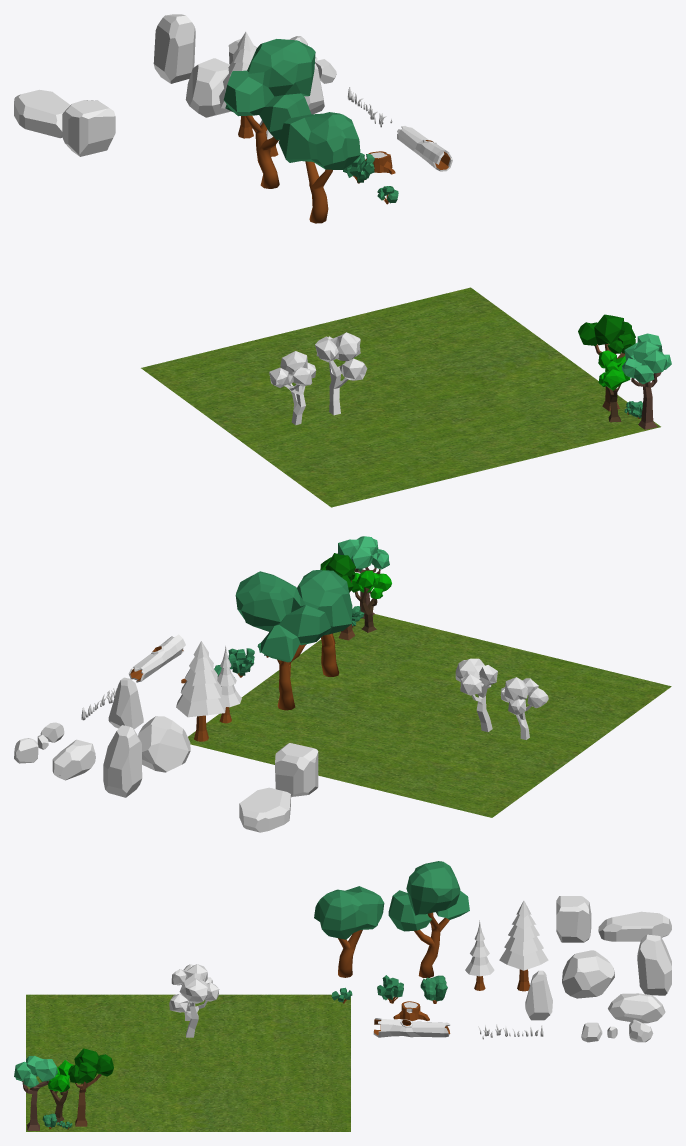
The model's file is region-0.glb.
The picture shows the model from 3 angles, top to bottom: view 1: azimuth 30°, elevation 25°; view 2: azimuth 150°, elevation 25°; view 3: azimuth 270°, elevation 25°; orthographic projection. The views are drawn at different scales.
Visible parts, largest first — view 1: Plane, Tree2.002_Plane.105, Tree1.002_Plane.106, Rock6.002_Cube.037, Rock2.004_Cube.041, Cube, Cube.002, Rock5.002_Cube.038, Rock1.003_Cube.042, Cube.001, Cube.004, Log.001_Plane.110 (+2 smaller); view 2: Plane, Tree2.002_Plane.105, Tree1.002_Plane.106, Spruce1.002_Plane.109, Rock2.004_Cube.041, Rock1.003_Cube.042, Rock6.002_Cube.037, Rock5.002_Cube.038, Cube.002, Cube.004, Cube, Rock3.003_Cube.040 (+7 smaller); view 3: Plane, Tree2.002_Plane.105, Tree1.002_Plane.106, Spruce1.002_Plane.109, Rock1.003_Cube.042, Rock2.004_Cube.041, Rock5.002_Cube.038, Rock6.002_Cube.037, Cube.001, Cube.002, Cube, Rock4.002_Cube.039 (+9 smaller).
Part boxes in pixels (x1=…): Plane: x1=141, y1=287, x2=660, y2=507; Tree2.002_Plane.105: x1=223, y1=39, x2=315, y2=188; Tree1.002_Plane.106: x1=278, y1=112, x2=360, y2=223; Rock6.002_Cube.037: x1=62, y1=100, x2=115, y2=156; Rock2.004_Cube.041: x1=153, y1=14, x2=195, y2=83; Cube: x1=622, y1=333, x2=671, y2=429; Cube.002: x1=315, y1=332, x2=367, y2=415; Rock5.002_Cube.038: x1=14, y1=89, x2=70, y2=138; Rock1.003_Cube.042: x1=185, y1=58, x2=231, y2=117; Cube.001: x1=578, y1=314, x2=635, y2=411; Cube.004: x1=269, y1=351, x2=316, y2=425; Log.001_Plane.110: x1=397, y1=126, x2=452, y2=171; Plane: x1=188, y1=614, x2=671, y2=817; Tree2.002_Plane.105: x1=235, y1=571, x2=330, y2=710; Tree1.002_Plane.106: x1=297, y1=570, x2=352, y2=676; Spruce1.002_Plane.109: x1=176, y1=641, x2=226, y2=741; Rock2.004_Cube.041: x1=103, y1=725, x2=142, y2=797; Rock1.003_Cube.042: x1=138, y1=716, x2=190, y2=772; Rock6.002_Cube.037: x1=275, y1=743, x2=318, y2=796; Rock5.002_Cube.038: x1=239, y1=787, x2=291, y2=832; Cube.002: x1=455, y1=658, x2=497, y2=731; Cube.004: x1=500, y1=677, x2=548, y2=739; Cube: x1=337, y1=536, x2=389, y2=618; Rock3.003_Cube.040: x1=108, y1=677, x2=143, y2=729; Plane: x1=26, y1=994, x2=350, y2=1131; Tree2.002_Plane.105: x1=388, y1=861, x2=469, y2=977; Tree1.002_Plane.106: x1=314, y1=886, x2=384, y2=977; Spruce1.002_Plane.109: x1=499, y1=900, x2=548, y2=991; Rock1.003_Cube.042: x1=562, y1=950, x2=614, y2=998; Rock2.004_Cube.041: x1=637, y1=934, x2=671, y2=995; Rock5.002_Cube.038: x1=598, y1=911, x2=671, y2=941; Rock6.002_Cube.037: x1=556, y1=896, x2=591, y2=942; Cube.001: x1=68, y1=1048, x2=113, y2=1126; Cube.002: x1=169, y1=973, x2=219, y2=1037; Cube: x1=14, y1=1055, x2=57, y2=1130; Rock4.002_Cube.039: x1=608, y1=993, x2=665, y2=1023.
Size of the model in its own units: 20.67 by 14.57 by 40.51.
Materials: 19 (1 with a texture image).
